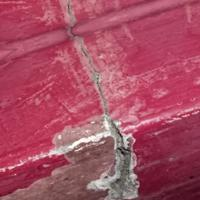crack: (42, 0, 153, 199)
